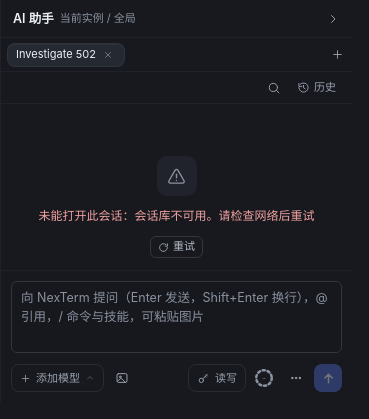
AiSidebar session restore › offers retry when the message reload fails transiently
Click the button "重试". click: (176, 247)
box: [150,236,203,258]
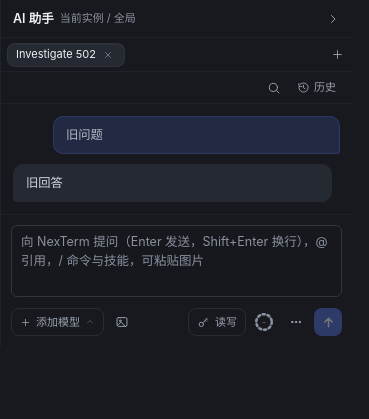
Result: the text "旧问题" is shown at [66,127,103,142]
